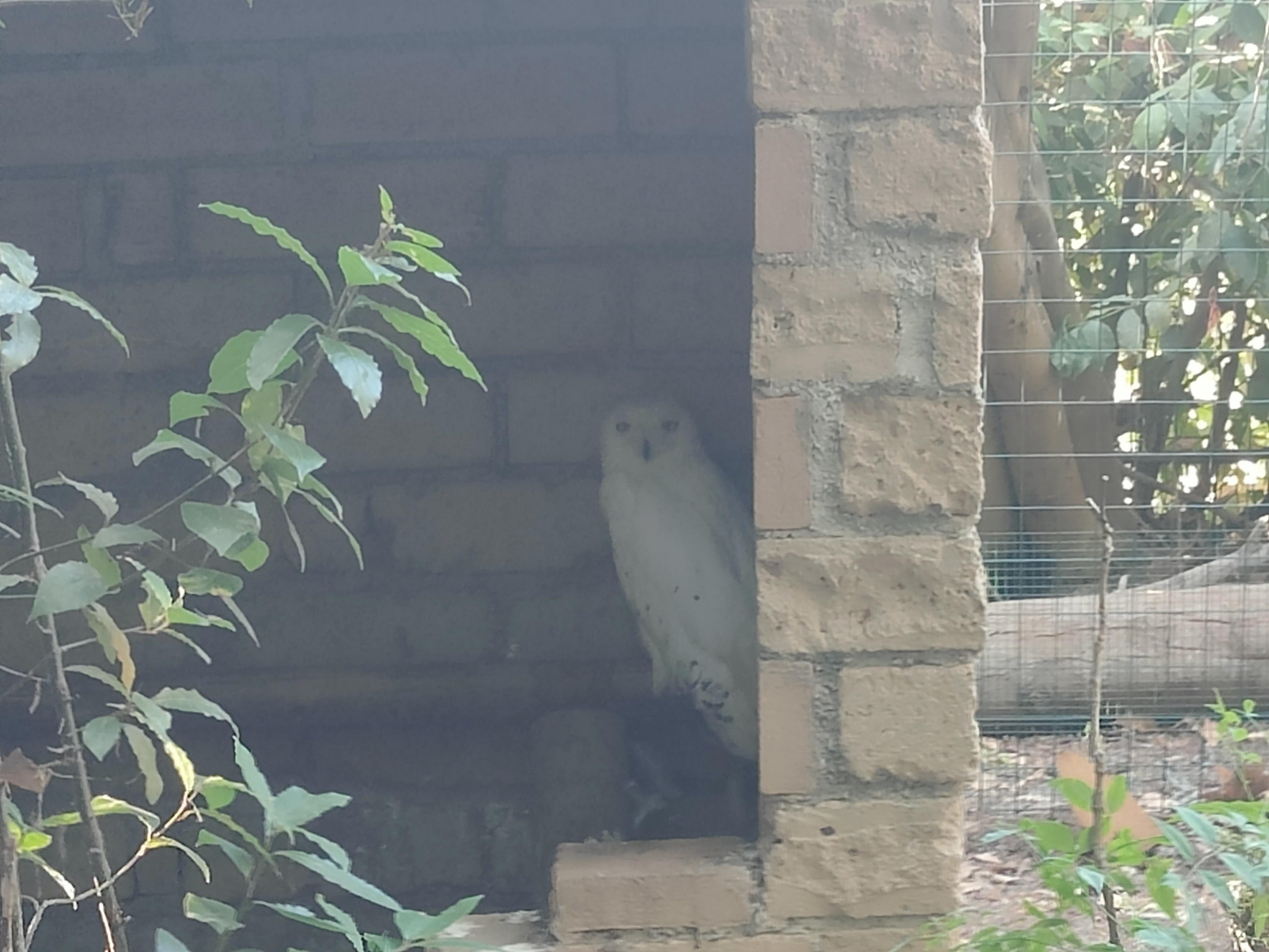apple: (600, 395, 757, 760)
